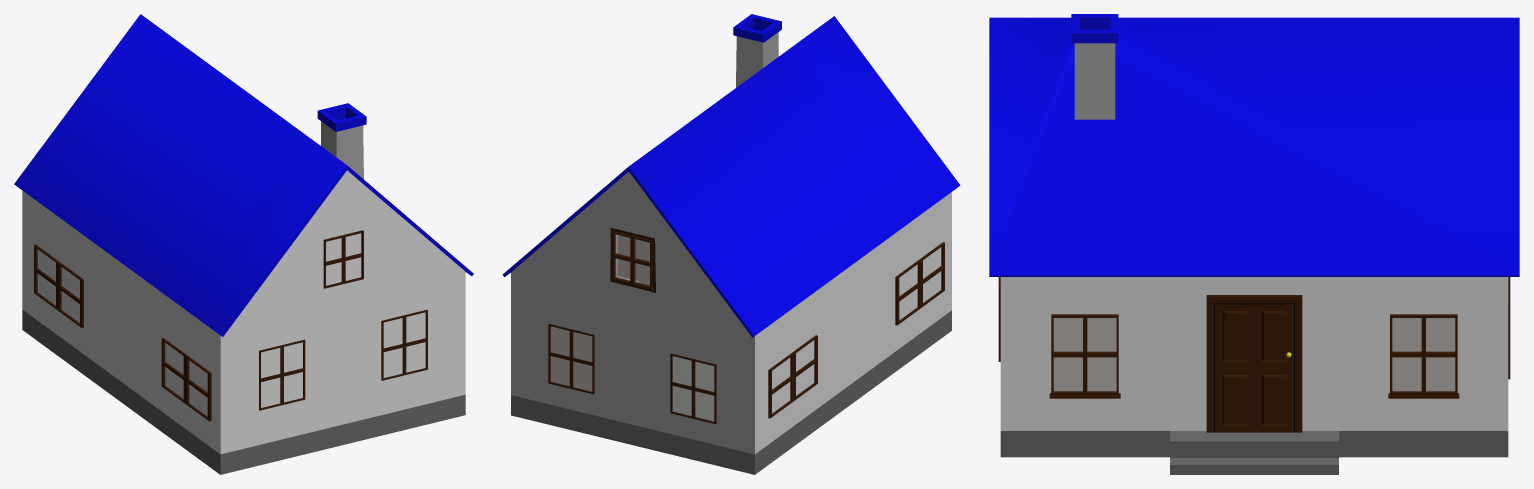
Rendered from House.fbx.
3 views of the same model, side by side, from view 1: azimuth 30°, elevation 25°; view 2: azimuth 150°, elevation 25°; view 3: azimuth 270°, elevation 25° (orthographic). The views are drawn at different scales.
Visible parts, largest first — view 1: polySurface3, polySurface2, pCube12, pCube13, pCube5, pCube6, pCube11; view 2: polySurface3, polySurface2, pCube4, pCube3, pCube2, pCube10, pCube12, pCube13; view 3: polySurface2, polySurface3, pCube9, pCube7, pCube8.
Boxes of the visible parts, x1,y1,x2,y2 form: polySurface3: (22,170,465,474); polySurface2: (14,14,473,336); pCube12: (161,338,211,421); pCube13: (34,244,83,327); pCube5: (381,310,427,380); pCube6: (259,339,305,410); pCube11: (323,230,363,288); polySurface3: (511,172,951,474); polySurface2: (502,14,960,337); pCube4: (670,353,716,424); pCube3: (548,323,594,394); pCube2: (612,231,652,289); pCube10: (673,357,713,420); pCube12: (895,242,944,325); pCube13: (768,335,817,418); polySurface2: (989,14,1519,276); polySurface3: (1000,277,1508,474); pCube9: (1206,295,1302,432); pCube7: (1388,314,1459,398); pCube8: (1049,314,1120,398).
Size of the model in its own units: 566 by 577 by 731.
